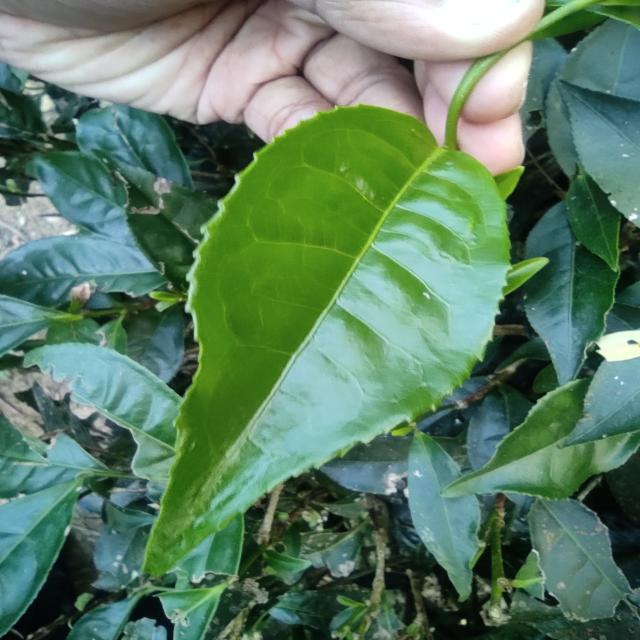Category C(4-7 days): (91, 57, 540, 599)
